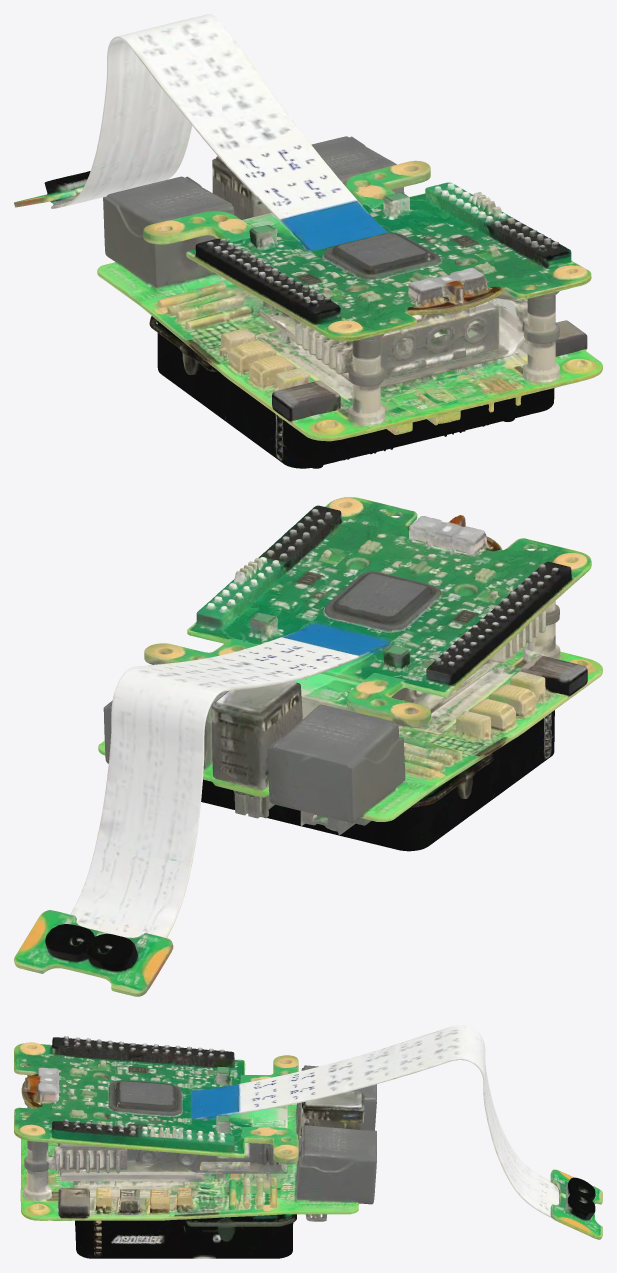
File: stack.min.glb
The picture shows the model from 3 angles, top to bottom: view 1: azimuth 30°, elevation 25°; view 2: azimuth 150°, elevation 25°; view 3: azimuth 270°, elevation 25°; orthographic projection. The views are drawn at different scales.
Bounding box in the file's own units: 0.8261 × 0.6462 × 1.9.
Materials: 1 (1 with a texture image).
